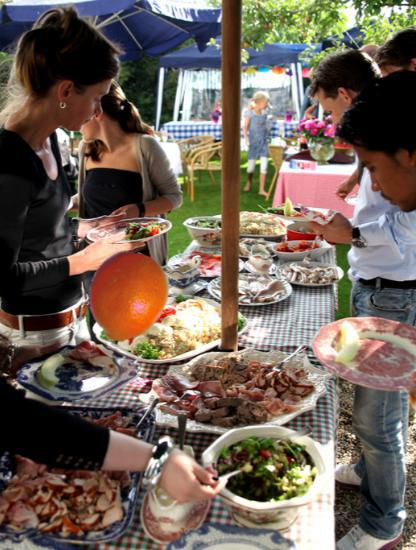Tangelo: (81, 251, 174, 344)
